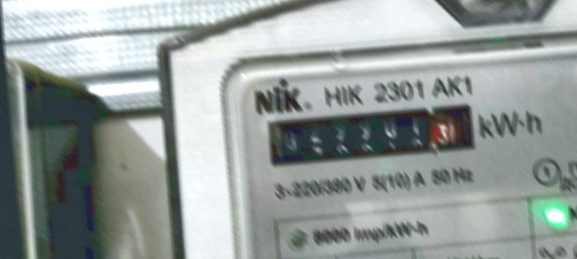0: (380, 114, 397, 141), (280, 129, 296, 152)
1: (407, 112, 421, 137)
2: (305, 122, 322, 145)
3: (432, 122, 449, 146)
9: (356, 119, 370, 143), (331, 120, 345, 142)
screen: (257, 96, 483, 177)
